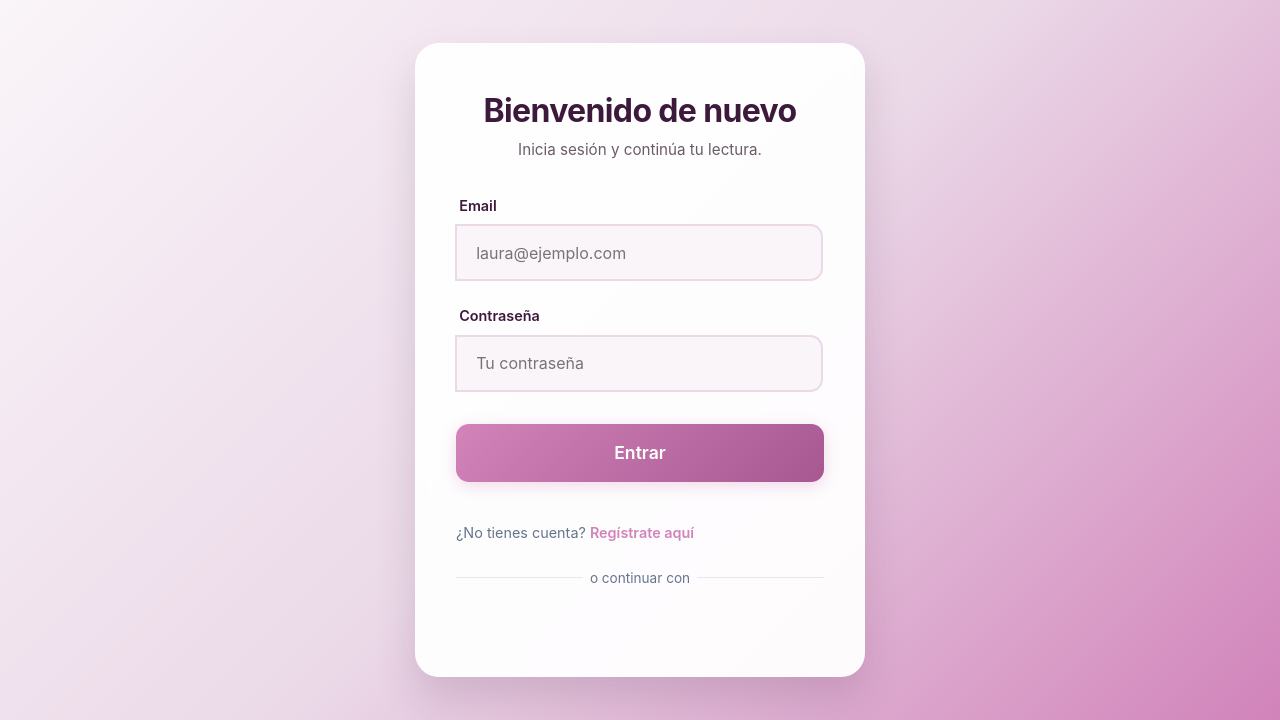
Scenario: Login › shows an error message when credentials are invalid
Type "wrong@vivebook.local" into the field with placeholder "laura@ejemplo.com" at (639,253), box x1=455 y1=224 x2=823 y2=281
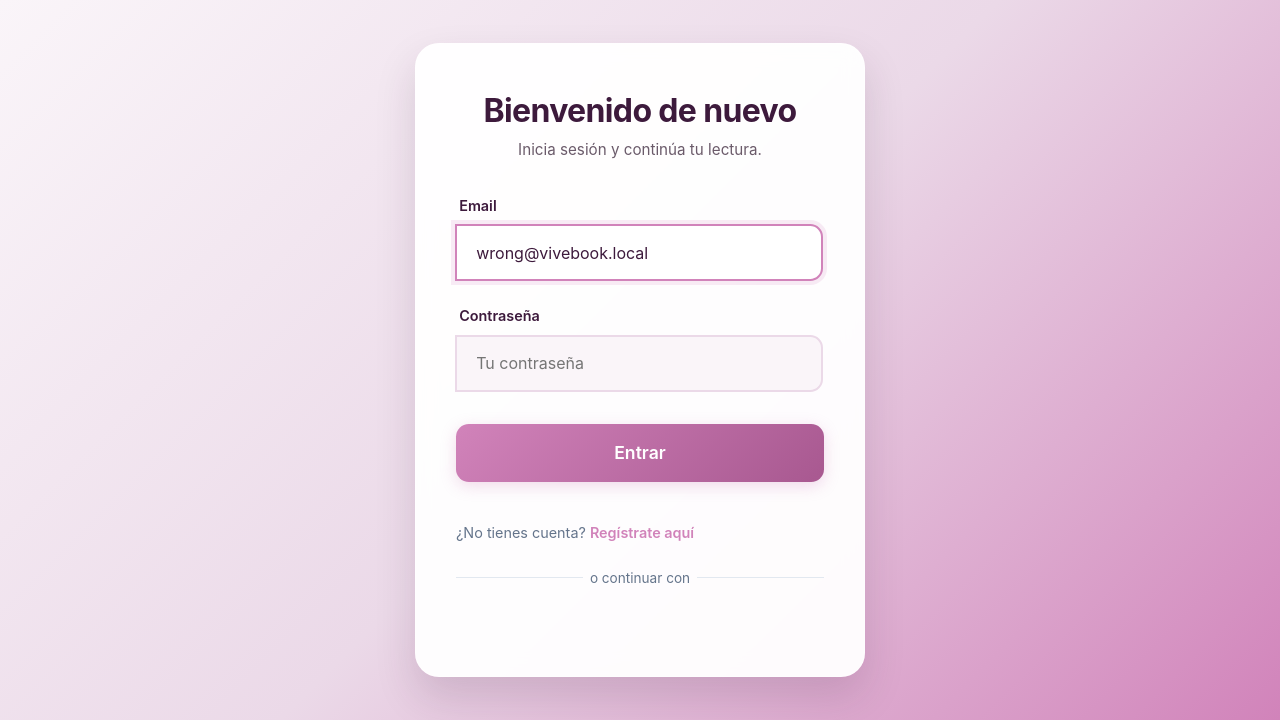
Type "bad-password" into the password field with placeholder "Tu contraseña" at (639,363), box x1=455 y1=335 x2=823 y2=392
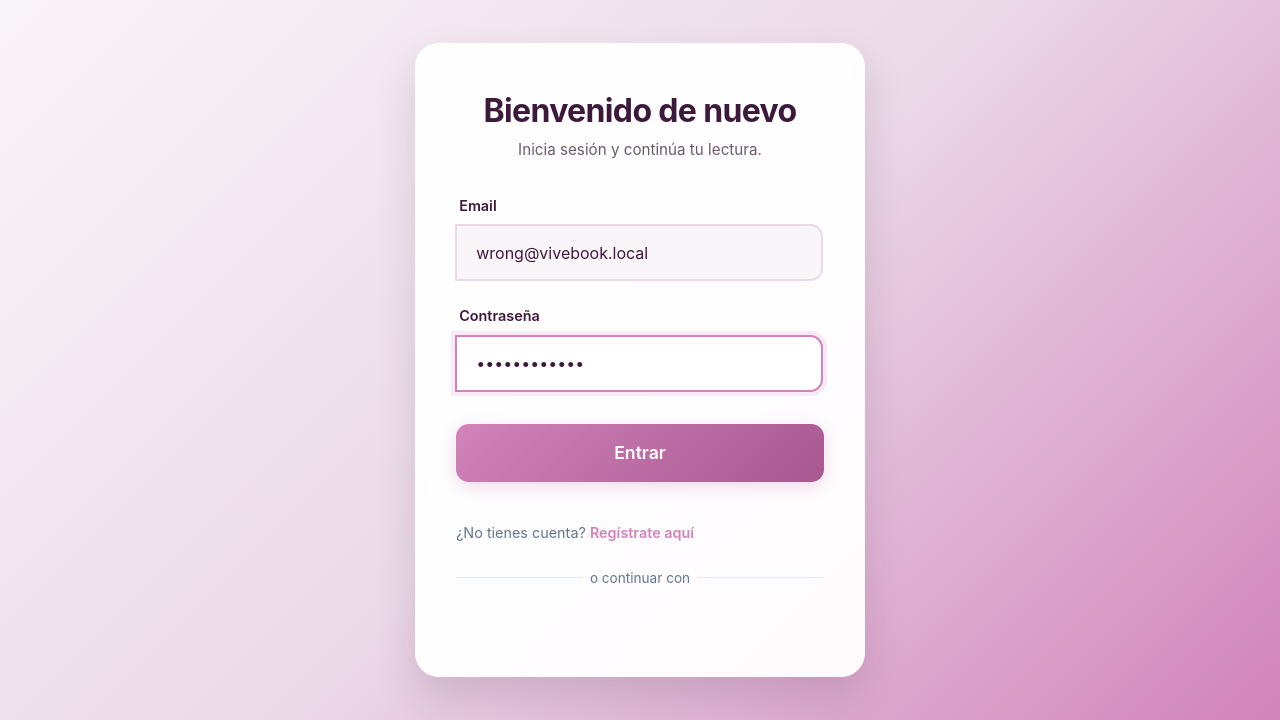
Click the button "Entrar" at (640,453), box x1=456 y1=424 x2=824 y2=482
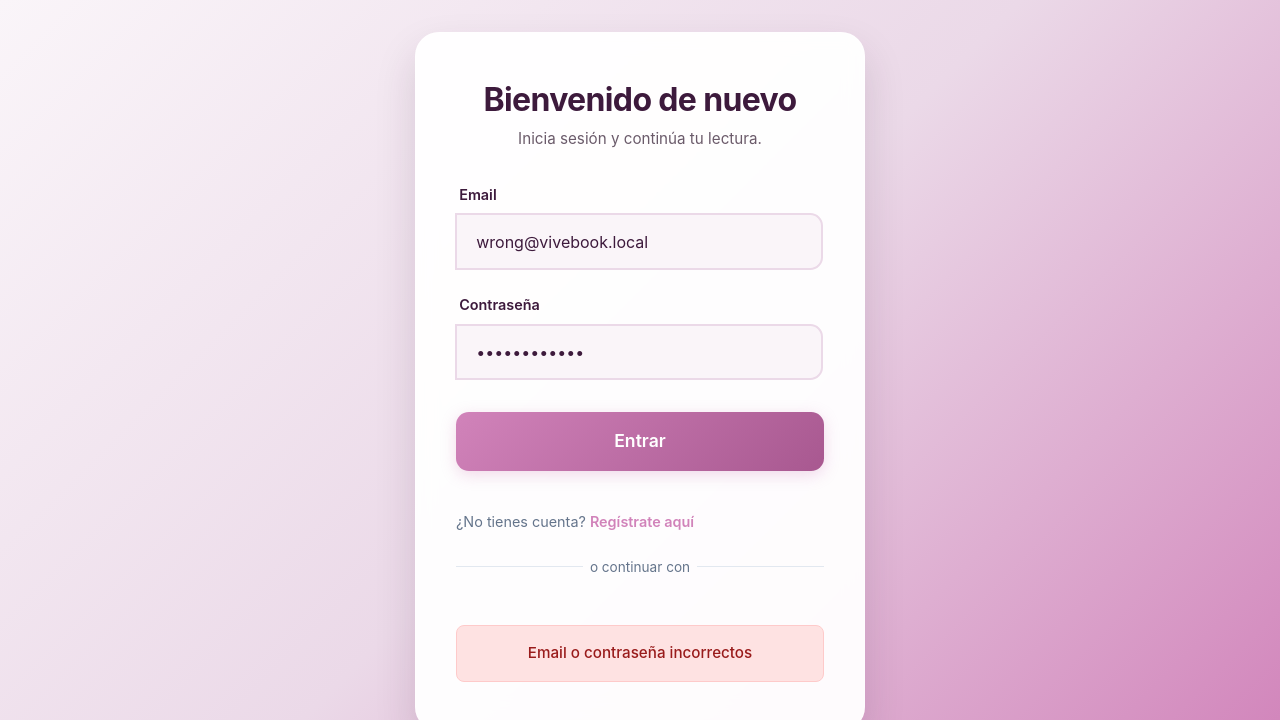
Expected: the button "Entrar" is enabled, x1=456 y1=412 x2=824 y2=471
Expected: the text "Email o contraseña incorrectos" is shown, x1=456 y1=625 x2=824 y2=682
